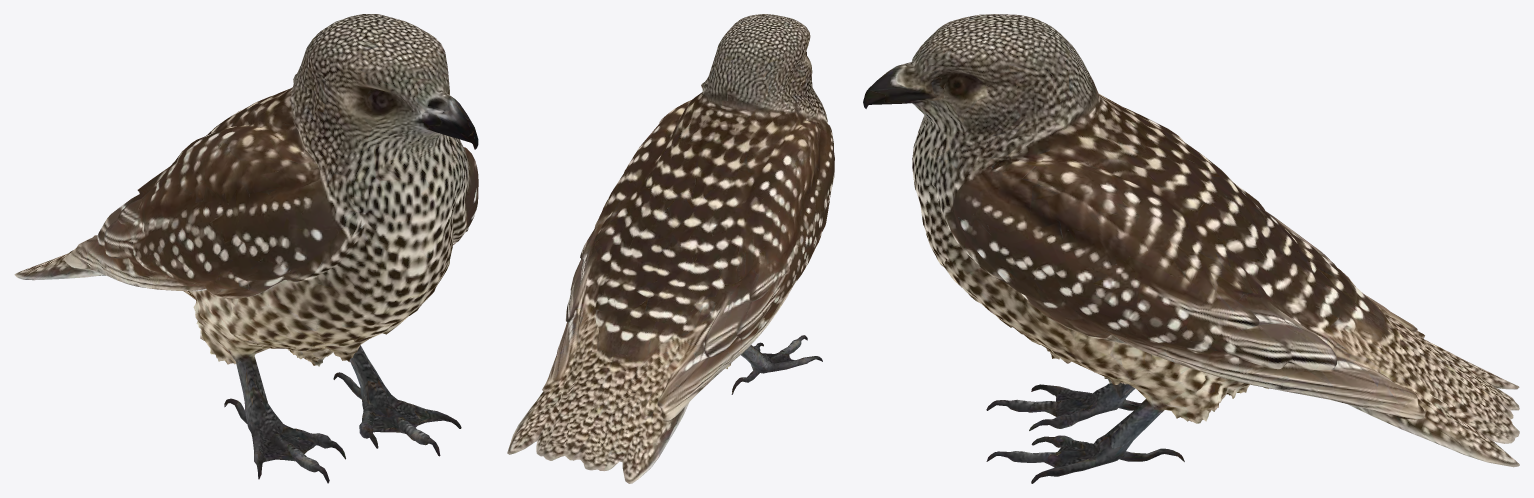
File: animal-nachtzwaluw-nightjar.glb
The picture shows the model from 3 angles, left to right: view 1: azimuth 30°, elevation 25°; view 2: azimuth 150°, elevation 25°; view 3: azimuth 270°, elevation 25°; orthographic projection. The views are drawn at different scales.
Size of the model in its own units: 0.8553 by 1.33 by 1.91.
Materials: 1 (1 with a texture image).
